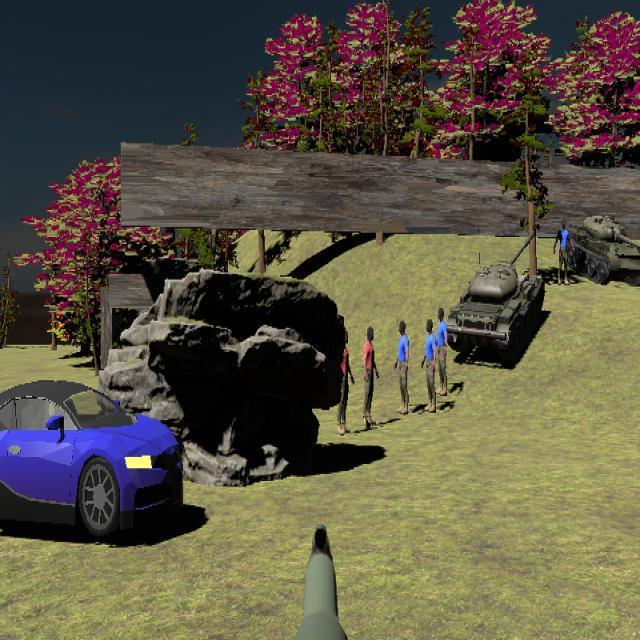Human: (362, 325, 379, 428), (337, 334, 354, 434), (394, 320, 410, 416), (421, 320, 437, 414), (554, 218, 574, 286), (435, 308, 449, 398)
Tank: (445, 253, 545, 362), (566, 214, 640, 289)
car: (0, 380, 187, 540)
